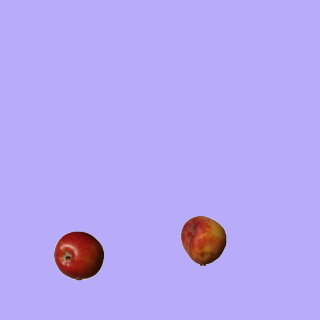Apple Braeburn: (53, 230, 103, 280)
Peach: (178, 215, 228, 265)
